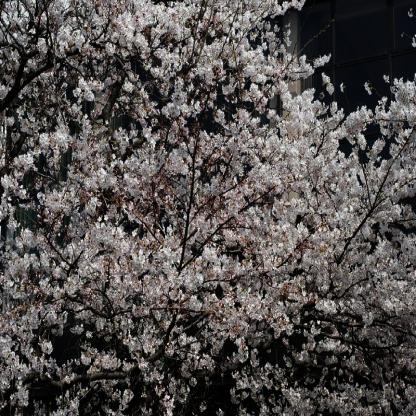Someiyoshino: (1, 2, 416, 414)
